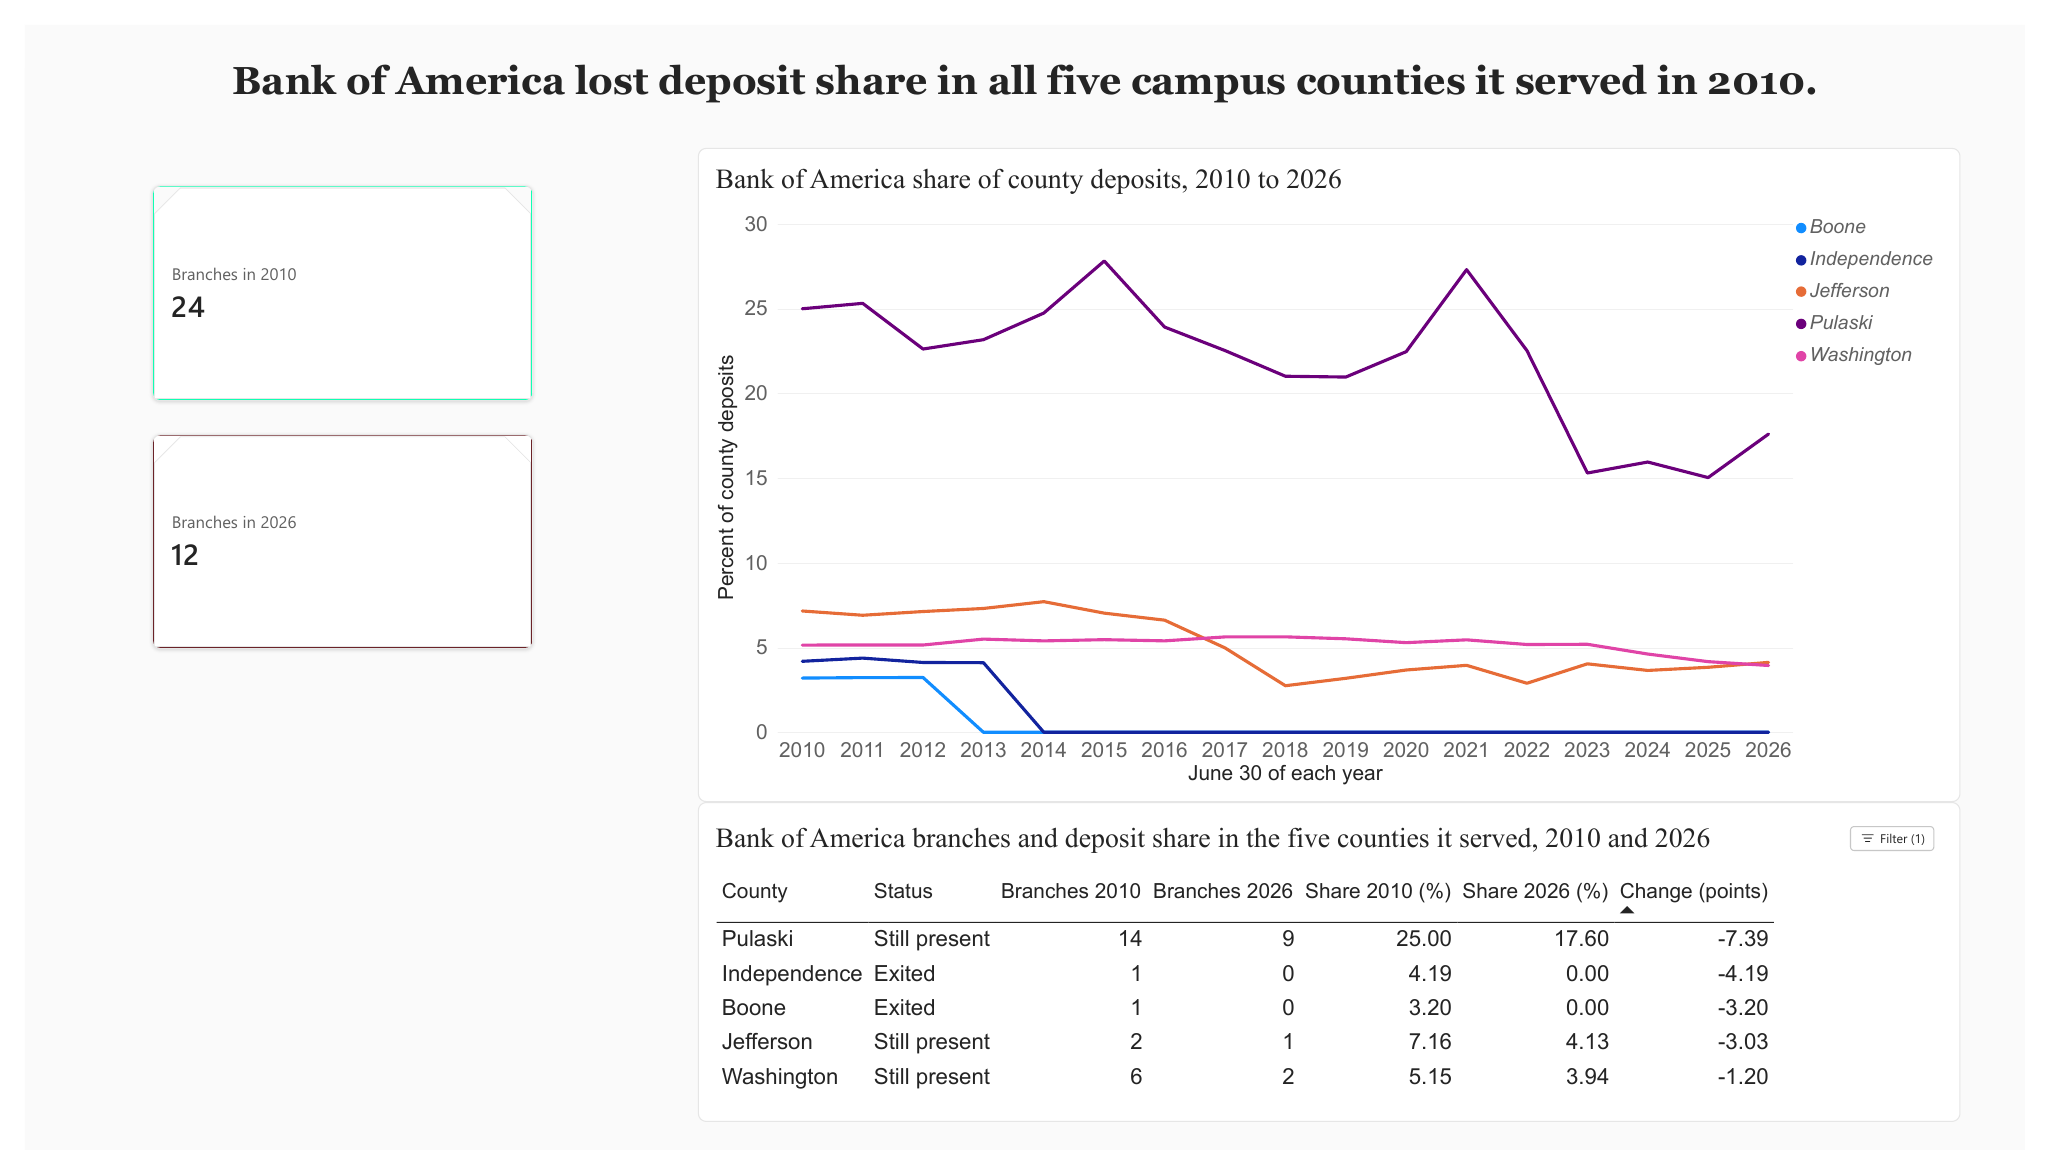

Layout of this report page (visuals, bound fields, positions):
{"tool":"powerbi","page":{"name":"Campus counties","canvas":[1920,1080],"ordinal":0},"visuals":[{"type":"lineChart","title":"Bank of America share of county deposits, 2010 to 2026","fields":{"Category":["cln vw_BoA_CampusCounty.sod_year"],"Series":["cln vw_BoA_CampusCounty.county_name"],"Y":["Sum(cln vw_BoA_CampusCounty.boa_share_pct)"]},"box":[646.1,118.2,1212.3,627.8],"z":0},{"type":"tableEx","title":"Bank of America branches and deposit share in the five counties it served, 2010 and 2026","fields":{"Values":["cln vw_Q4_Final.county_name","cln vw_Q4_Final.boa_status","cln vw_Q4_Final.boa_branches_start","cln vw_Q4_Final.boa_branches_end","cln vw_Q4_Final.boa_share_start","cln vw_Q4_Final.boa_share_end","cln vw_Q4_Final.boa_share_change_pts"]},"box":[646.1,746,1212,306.8],"z":1000},{"type":"textbox","box":[122.2,33.3,1676.5,70.1],"z":2000},{"type":"cardVisual","title":"Branches in 2010","fields":{"Data":["Sum(cln vw_Q4_Final.boa_branches_start)"]},"box":[122.1,154.1,366.3,206.5],"z":3000},{"type":"cardVisual","fields":{"Data":["Sum(cln vw_Q4_Final.boa_branches_end)"]},"box":[121.6,393,366.3,206.5],"z":4000}]}

Visuals, with their boxes in screenshot pixels (x1, y1, x2, y2), scaled from the page's 1920x1080 canvas onto the 2050x1175 screenshot:
"Bank of America share of county deposits, 2010 to 2026" lineChart: x1=690, y1=129, x2=1984, y2=812
"Bank of America branches and deposit share in the five counties it served, 2010 and 2026" tableEx: x1=690, y1=812, x2=1984, y2=1145
textbox: x1=130, y1=36, x2=1920, y2=112
"Branches in 2010" cardVisual: x1=130, y1=168, x2=521, y2=392
cardVisual - Sum(cln vw_Q4_Final.boa_branches_end): x1=130, y1=428, x2=521, y2=652
